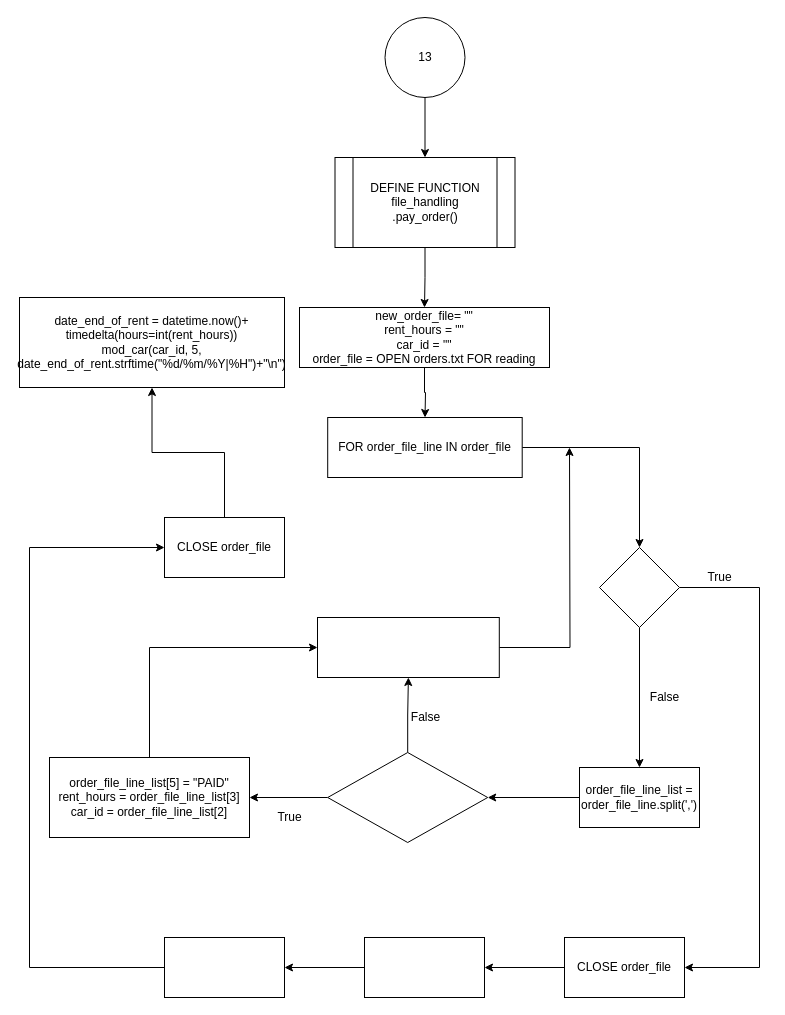
Image size: 785x1015. Some labels were removed from this diagram. The centre of each missing label's shape, as x and y in pixels:
Last line reached?: [639,587]
new_order_file += ",".join(order_file_line_list): [407,647]
order_file= OPEN orders.txt FOR writing: [424,967]
order_file_line_list[0] ==order_id: [407,797]
write new_order_file to order_file: [224,967]
